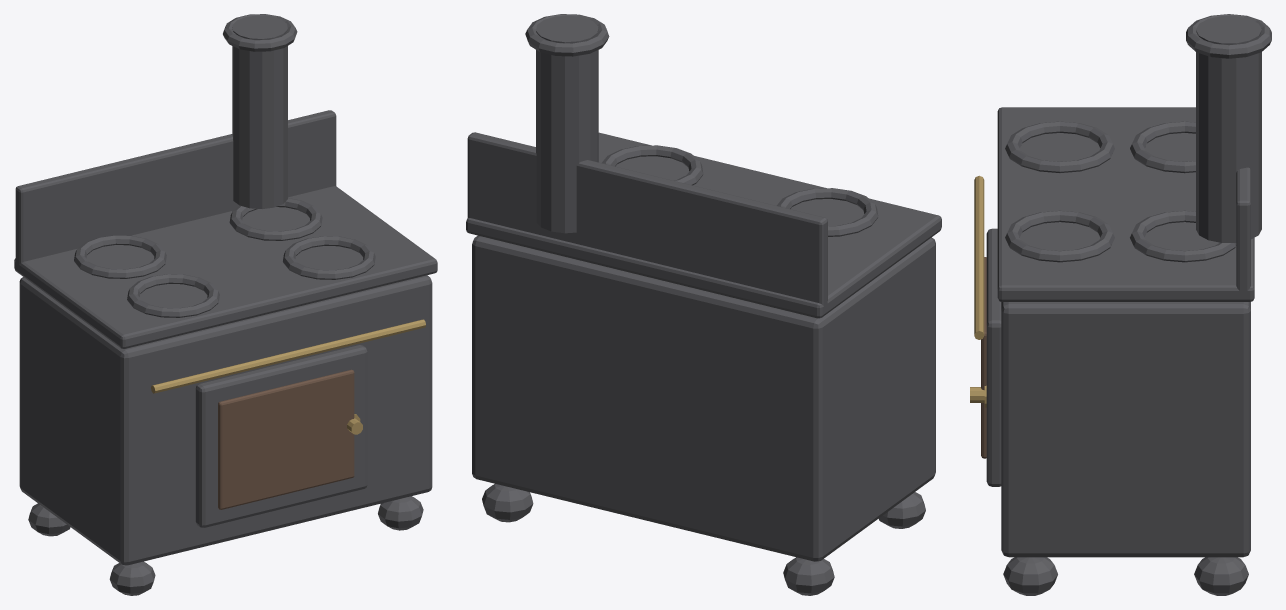
3 renders of one model, left to right at view 1: azimuth 30°, elevation 25°; view 2: azimuth 150°, elevation 25°; view 3: azimuth 270°, elevation 25°, orthographic. The views are drawn at different scales.
Visible parts, largest first — view 1: stoveRange; view 2: stoveRange; view 3: stoveRange.
Boxes of the visible parts, bbox=[...] form: stoveRange: bbox=[14, 14, 437, 595]; stoveRange: bbox=[466, 14, 941, 595]; stoveRange: bbox=[970, 14, 1271, 595].
Bounding box in the file's own units: 1.17 × 1.6 × 0.822.
